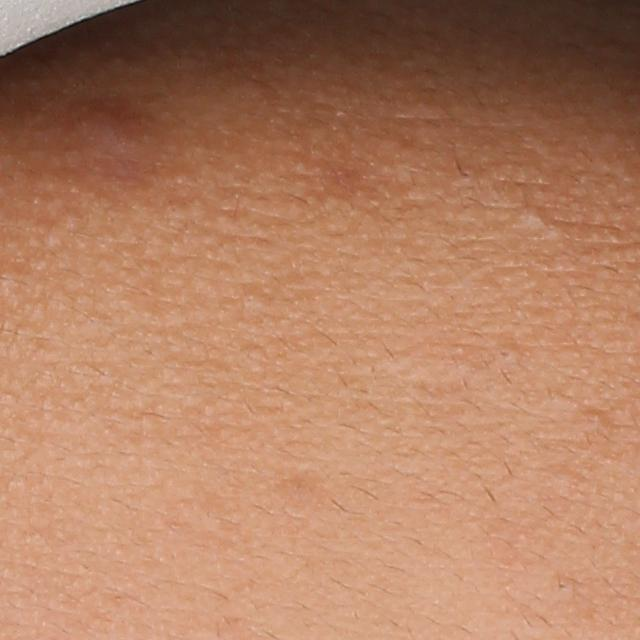comedo: (520, 205, 553, 232), (490, 341, 524, 364)
